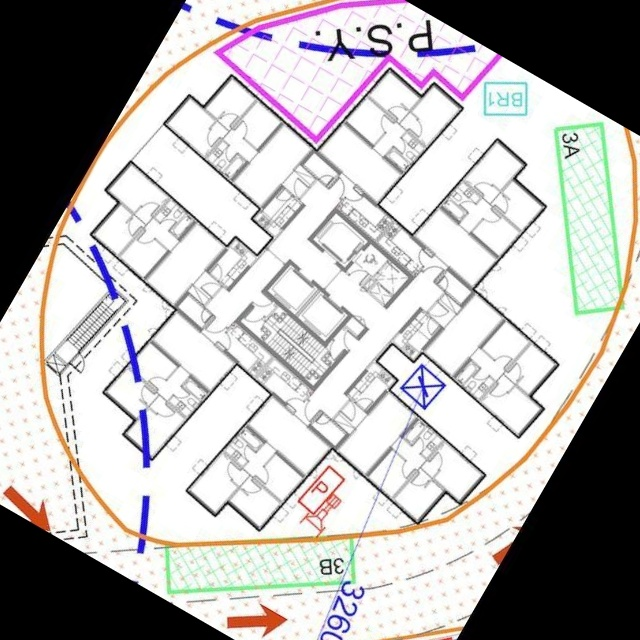tower_crane: (399, 363, 448, 410)
